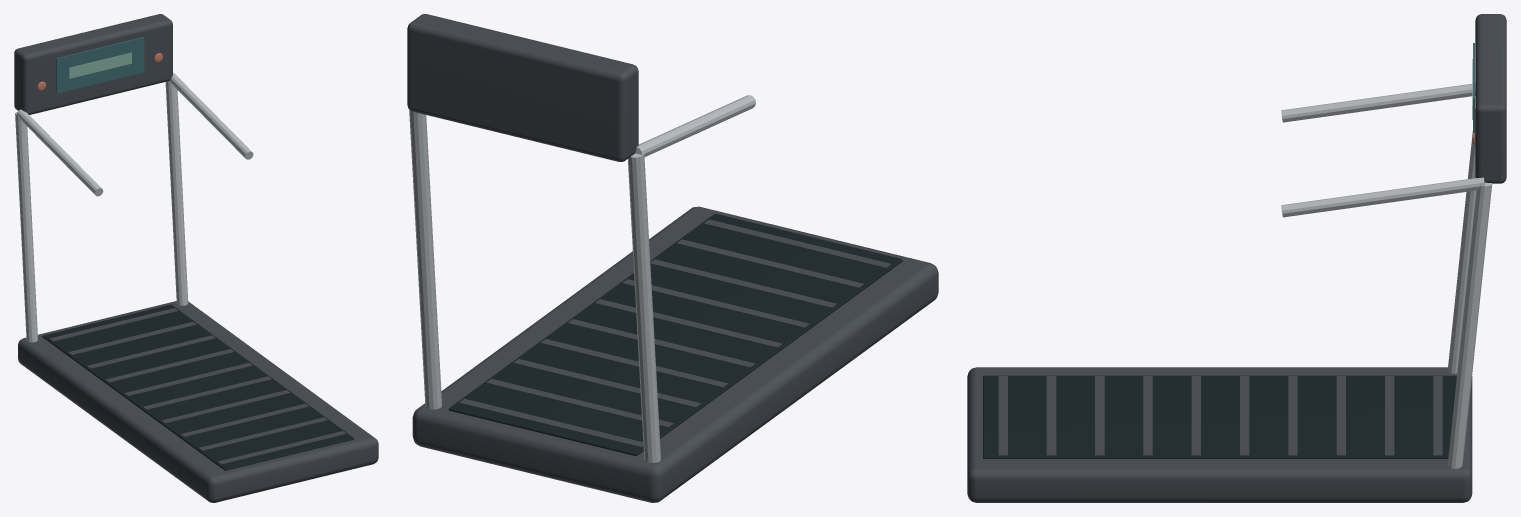
File: treadmill.glb
3 views of the same model, side by side, from view 1: azimuth 30°, elevation 25°; view 2: azimuth 150°, elevation 25°; view 3: azimuth 270°, elevation 25° (orthographic). The views are drawn at different scales.
Visible parts, largest first — view 1: Running belt, Treadmill deck, Console, Frame upright, Frame upright.001, Console screen, Hand rail, Hand rail.001, Screen graph, Belt tread, Belt tread.002, Belt tread.003 (+7 smaller); view 2: Running belt, Treadmill deck, Console, Frame upright, Frame upright.001, Hand rail, Belt tread.008, Belt tread.009, Belt tread.007, Belt tread, Belt tread.002, Belt tread.006 (+4 smaller); view 3: Running belt, Treadmill deck, Console, Frame upright.001, Hand rail.001, Hand rail, Frame upright, Belt tread.008, Belt tread, Belt tread.001, Belt tread.002, Belt tread.003 (+5 smaller).
Part boxes in pixels (<box>): Running belt: <box>42,304,353,470</box>; Treadmill deck: <box>18,301,378,502</box>; Console: <box>14,14,172,114</box>; Frame upright: <box>15,112,37,342</box>; Frame upright.001: <box>165,81,188,305</box>; Console screen: <box>56,37,144,93</box>; Hand rail: <box>17,109,103,196</box>; Hand rail.001: <box>169,72,253,159</box>; Screen graph: <box>69,52,131,78</box>; Belt tread: <box>49,308,178,341</box>; Belt tread.002: <box>87,335,215,368</box>; Belt tread.003: <box>105,349,234,382</box>; Running belt: <box>448,213,902,455</box>; Treadmill deck: <box>412,206,938,502</box>; Console: <box>407,14,638,161</box>; Frame upright: <box>628,153,660,462</box>; Frame upright.001: <box>409,109,442,409</box>; Hand rail: <box>635,95,755,156</box>; Belt tread.008: <box>676,239,864,288</box>; Belt tread.009: <box>704,219,891,268</box>; Belt tread.007: <box>650,259,836,308</box>; Belt tread: <box>459,398,643,447</box>; Belt tread.002: <box>513,359,700,407</box>; Belt tread.006: <box>622,279,809,327</box>; Running belt: <box>983,375,1456,458</box>; Treadmill deck: <box>967,367,1472,502</box>; Console: <box>1475,14,1506,183</box>; Frame upright.001: <box>1447,182,1492,468</box>; Hand rail.001: <box>1281,177,1484,217</box>; Hand rail: <box>1281,83,1475,122</box>; Frame upright: <box>1447,109,1476,373</box>; Belt tread.008: <box>1046,376,1056,455</box>; Belt tread: <box>1433,376,1442,455</box>; Belt tread.001: <box>1385,376,1394,455</box>; Belt tread.002: <box>1336,376,1345,455</box>; Belt tread.003: <box>1288,376,1297,455</box>.
Bounding box in the file's own units: 0.82 × 1.39 × 1.73.
